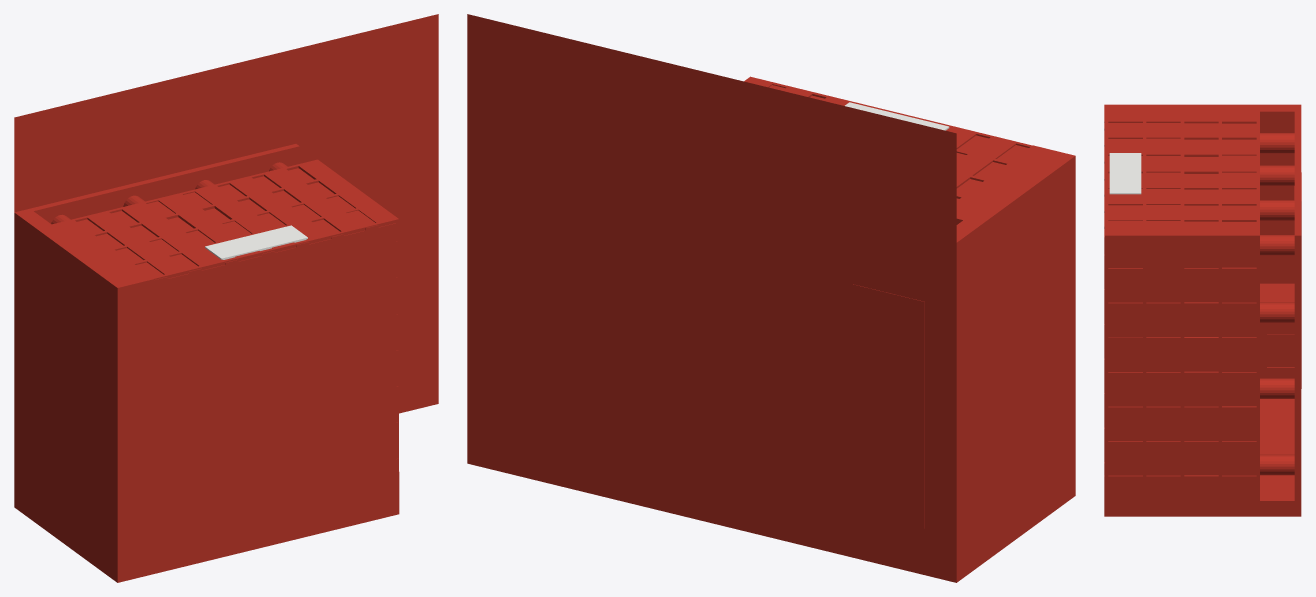
The model's file is schooltake3boi.fbx.
3 renders of one model, left to right at view 1: azimuth 30°, elevation 25°; view 2: azimuth 150°, elevation 25°; view 3: azimuth 270°, elevation 25°, orthographic. The views are drawn at different scales.
Visible parts, largest first — view 1: MeshBody1, Body1; view 2: MeshBody1; view 3: MeshBody1, Body1.
Part boxes in pixels (box(x1,y1,x2,y2)): MeshBody1: box(14, 14, 438, 582); Body1: box(205, 225, 307, 259); MeshBody1: box(467, 14, 1075, 582); MeshBody1: box(1104, 104, 1301, 516); Body1: box(1109, 153, 1141, 194).
Bounding box in the file's own units: 41297 × 36263 × 17437.
